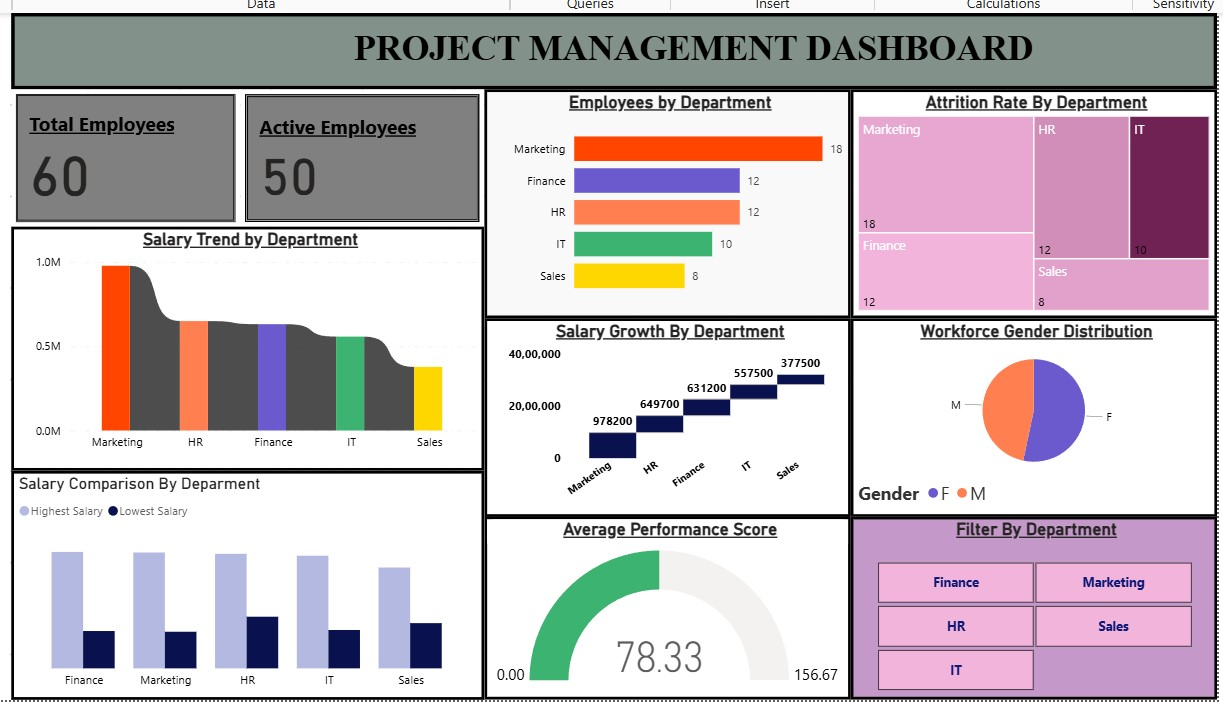

Layout of this report page (visuals, bound fields, positions):
{"tool":"powerbi","page":{"name":"Page 1","canvas":[1280,720],"ordinal":0},"visuals":[{"type":"textbox","box":[16,0,1264,80],"z":0},{"type":"cardVisual","fields":{"Data":["Employee.Total Employees"]},"box":[16,80,240,144],"z":1000},{"type":"cardVisual","fields":{"Data":["Employee.Active Employees"]},"box":[256,80,256,144],"z":2000},{"type":"clusteredBarChart","title":"Employees by Department","fields":{"Category":["Employee.Department"],"Y":["Employee.Total Employees"]},"box":[512,80,384,240],"z":3000},{"type":"pieChart","title":"Workforce Gender Distribution","fields":{"Category":["Employee.Gender"],"Y":["Sum(Employee.PerformanceScore)"]},"box":[896,320,384,208],"z":4000},{"type":"gauge","title":"Average Performance Score","fields":{"Y":["Employee.Average Performance"]},"box":[512,528,384,192],"z":5000},{"type":"waterfallChart","title":"Salary Growth By Department","fields":{"Category":["Employee.Department"],"Y":["Employee.SumSalary"]},"box":[512,320,384,208],"z":6000},{"type":"ribbonChart","title":"Salary Trend by Department","fields":{"Category":["Employee.Department"],"Y":["Sum(Employee.Salary)"]},"box":[16,224,496,256],"z":7000},{"type":"treemap","title":"Attrition Rate By Department","fields":{"Group":["Employee.Department"],"Values":["Employee.Total Employees"]},"box":[896,80,384,240],"z":8000},{"type":"clusteredColumnChart","title":"Salary Comparison By Deparment","fields":{"Y":["Employee.Highest Salary","Employee.Lowest Salary"],"Category":["Employee.Department"]},"box":[16,480,496,240],"z":9000},{"type":"slicer","title":"Filter By Department","fields":{"Values":["Employee.Department"]},"box":[896,528,384,192],"z":10000}]}

Visuals, with their boxes in screenshot pixels (x1, y1, x2, y2):
textbox: x1=18 y1=13 x2=1209 y2=88
cardVisual - Employee.Total Employees: x1=18 y1=88 x2=244 y2=224
cardVisual - Employee.Active Employees: x1=244 y1=88 x2=486 y2=224
"Employees by Department" clusteredBarChart: x1=486 y1=88 x2=847 y2=314
"Workforce Gender Distribution" pieChart: x1=847 y1=314 x2=1209 y2=510
"Average Performance Score" gauge: x1=486 y1=510 x2=847 y2=691
"Salary Growth By Department" waterfallChart: x1=486 y1=314 x2=847 y2=510
"Salary Trend by Department" ribbonChart: x1=18 y1=224 x2=486 y2=465
"Attrition Rate By Department" treemap: x1=847 y1=88 x2=1209 y2=314
"Salary Comparison By Deparment" clusteredColumnChart: x1=18 y1=465 x2=486 y2=691
"Filter By Department" slicer: x1=847 y1=510 x2=1209 y2=691
